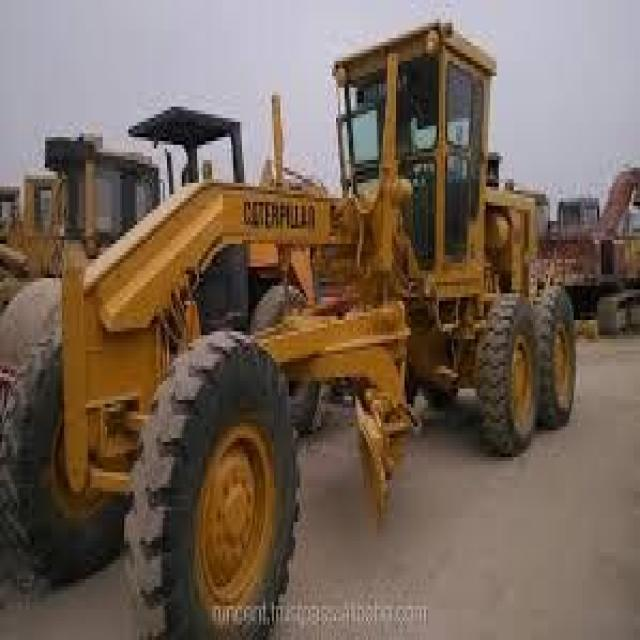buldozerpayloadergrader: (22, 38, 614, 636)
